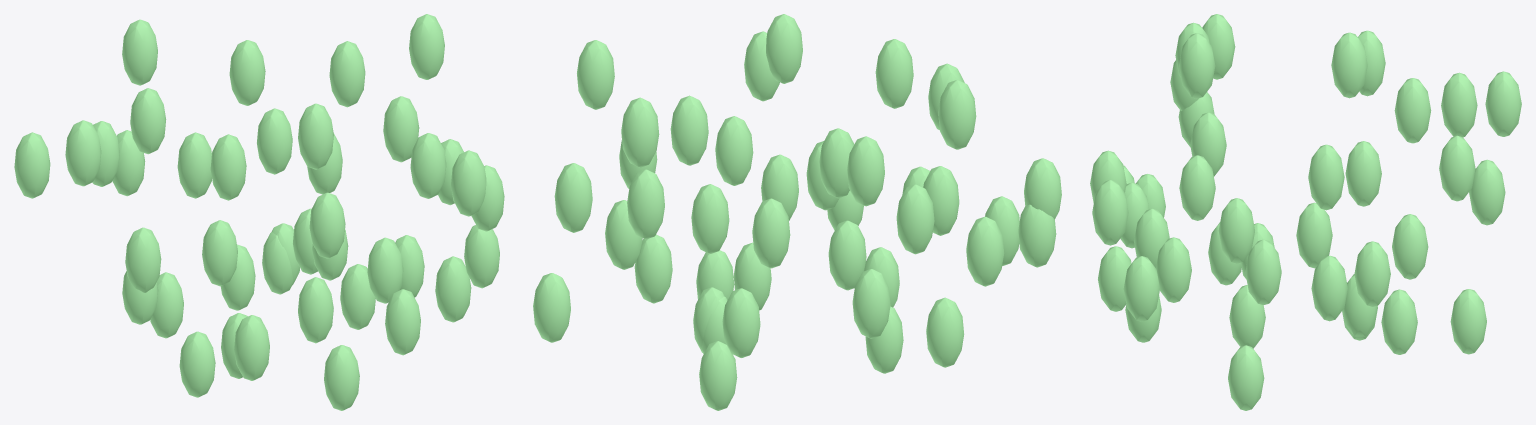
File: SM_ANM_FogleechSwarm.fbx
The picture shows the model from 3 angles, left to right: view 1: azimuth 30°, elevation 25°; view 2: azimuth 150°, elevation 25°; view 3: azimuth 270°, elevation 25°; orthographic projection. The views are drawn at different scales.
Visible parts, largest first — view 1: SM_ANM_FogleechSwarm; view 2: SM_ANM_FogleechSwarm; view 3: SM_ANM_FogleechSwarm.
Part boxes in pixels (x1,y1,x2,y2): SM_ANM_FogleechSwarm: (14, 14, 504, 410); SM_ANM_FogleechSwarm: (533, 14, 1061, 410); SM_ANM_FogleechSwarm: (1090, 14, 1521, 410).
Size of what is drawn, in the model's own units: 1.68 by 1.23 by 1.66.
